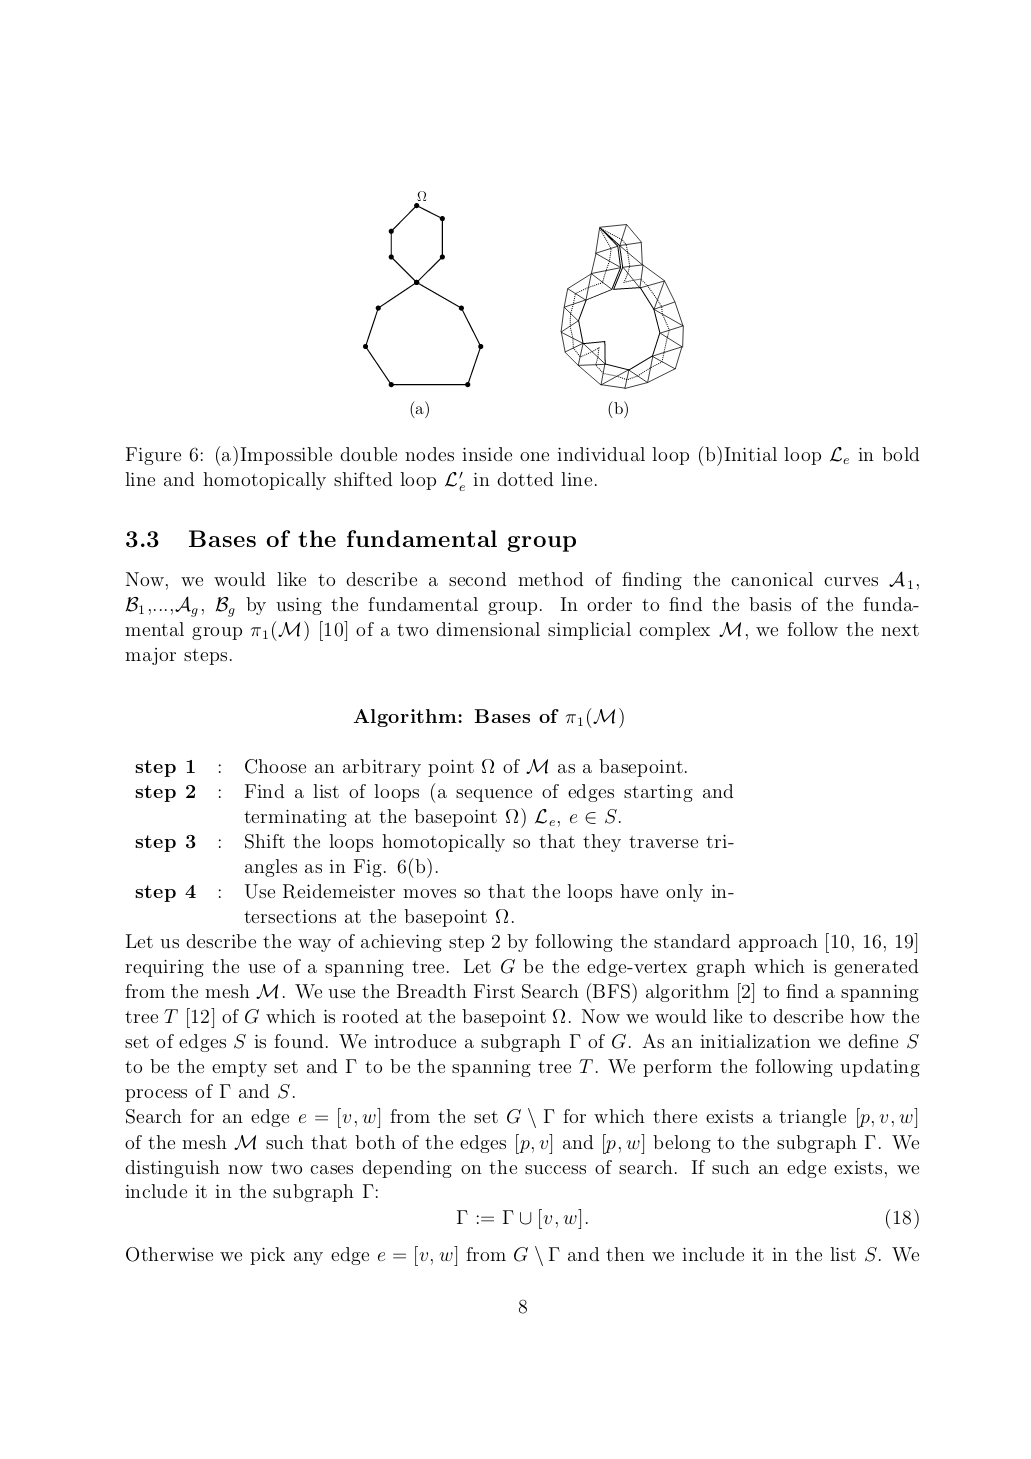figure: (363, 191, 483, 387), (560, 222, 683, 389)
formula: (456, 1208, 918, 1229)
